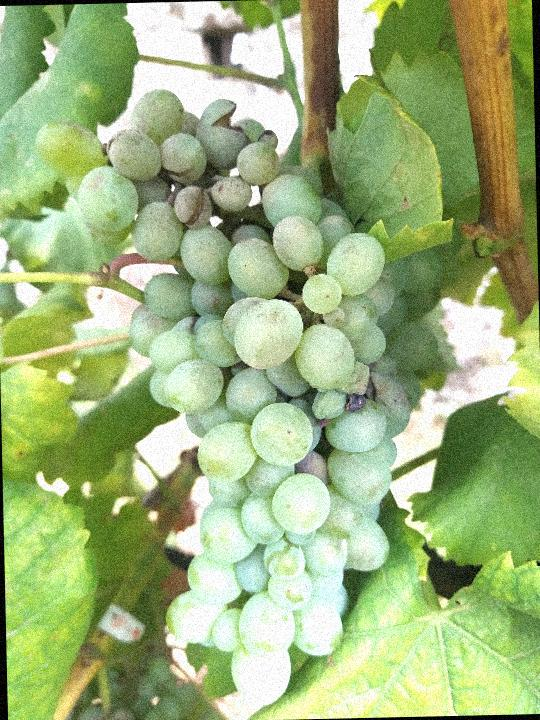grape: (31, 80, 450, 714)
